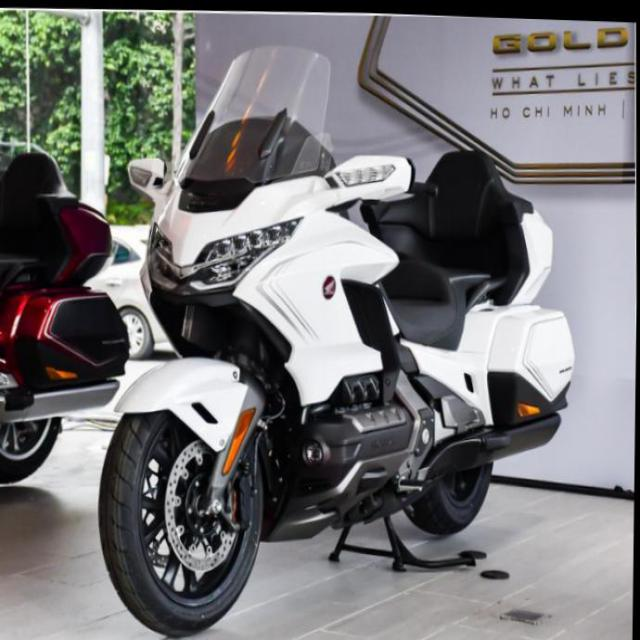Gold Wing: (90, 30, 585, 639), (0, 144, 133, 493)
